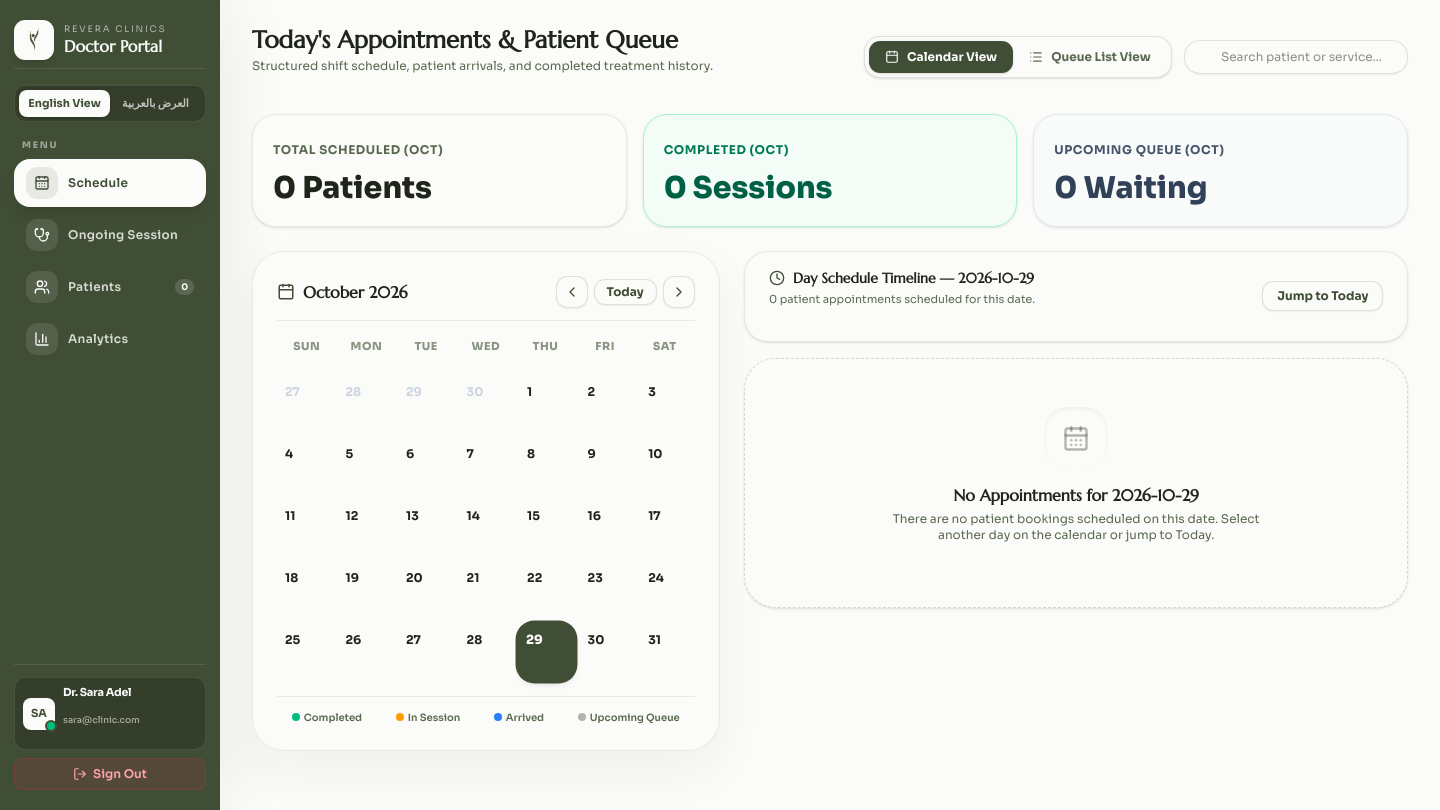
provider record comes from the profile API (RISK-128) › shows a booking assigned to this doctor's provider id even though another name is on it
The image size is (1440, 810).
Click the button titled "Patients".
click(110, 287)  # box [14,263,206,311]
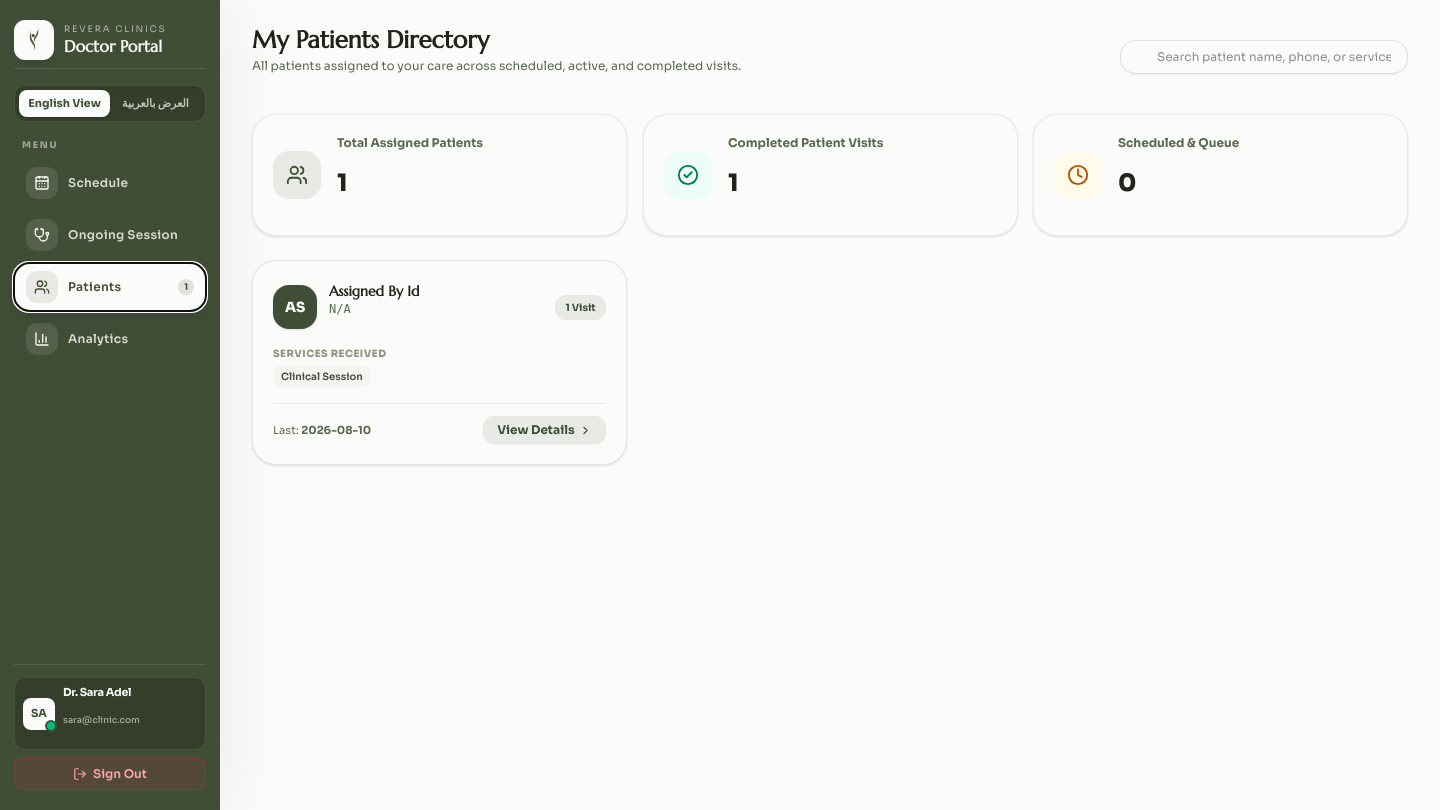
Expected: the heading "Assigned By Id" is shown, [329,281,419,301]
